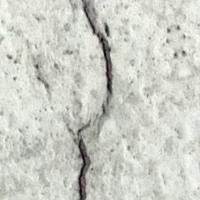crack: (62, 1, 121, 199)
